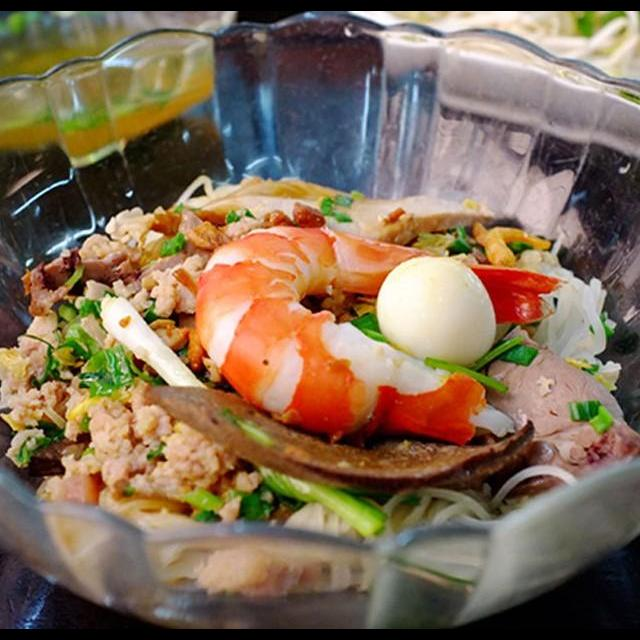banh hu tieu: (493, 223, 622, 384)
hu tieu: (0, 70, 640, 629)
thit bam: (0, 300, 232, 535), (64, 202, 210, 326)
thit heo: (463, 320, 640, 513)
tom: (184, 217, 576, 452)
trung: (370, 249, 500, 371)
